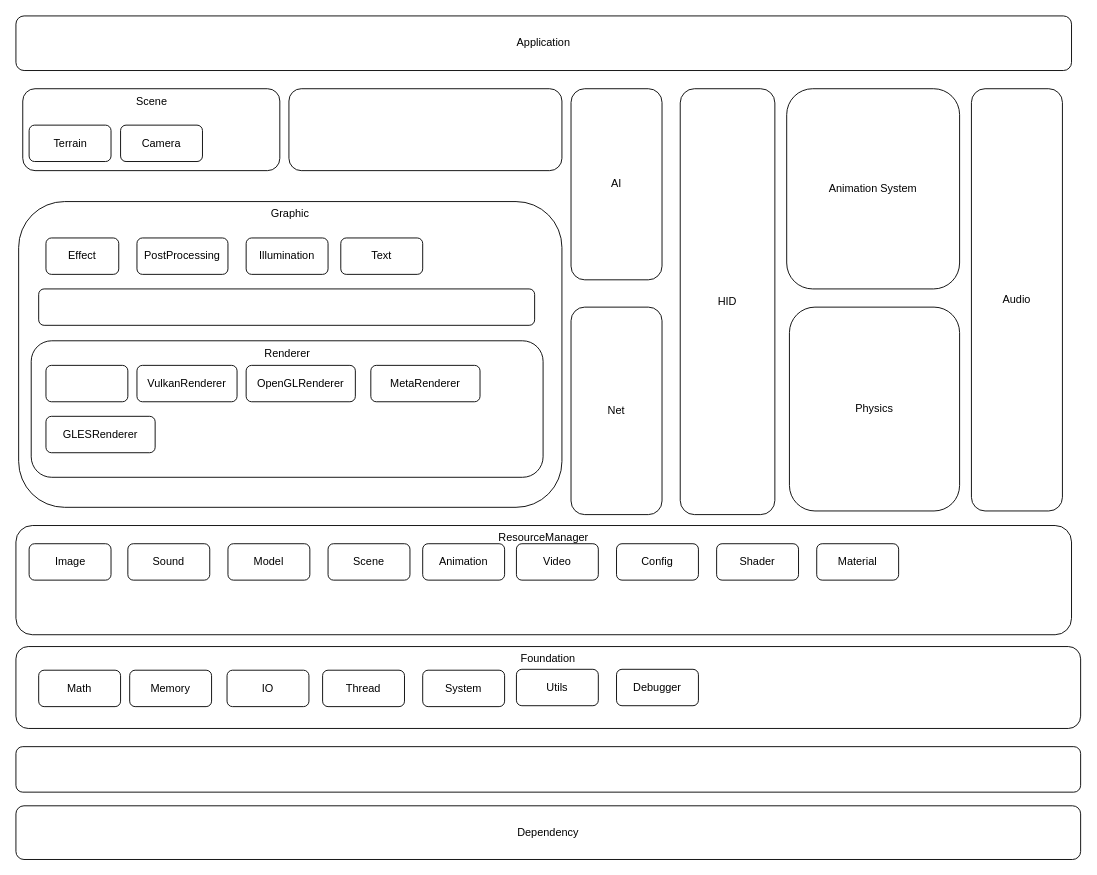
This 1097x875 diagram has some shape labels left out. The centre of each missing label's shape, as x and y in pixels:
"Platform" belongs at point 548,769.
"Rendering" belongs at point 286,306.
"SoftRenderer" belongs at point 86,383.
"UI" belongs at point 425,129.
